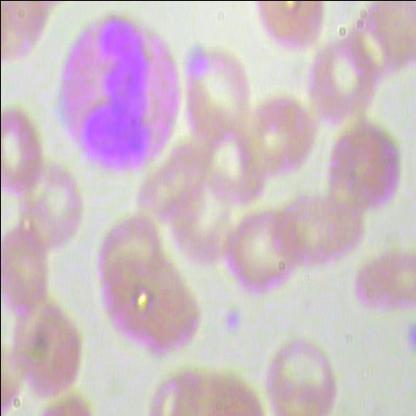Platelets: (219, 304, 244, 338)
RBC: (5, 292, 86, 400), (176, 45, 254, 140), (215, 209, 298, 297), (296, 36, 379, 124), (260, 330, 345, 415), (341, 245, 415, 323), (1, 102, 50, 198), (1, 229, 50, 318), (249, 1, 329, 55)
WBC: (46, 13, 188, 179)
